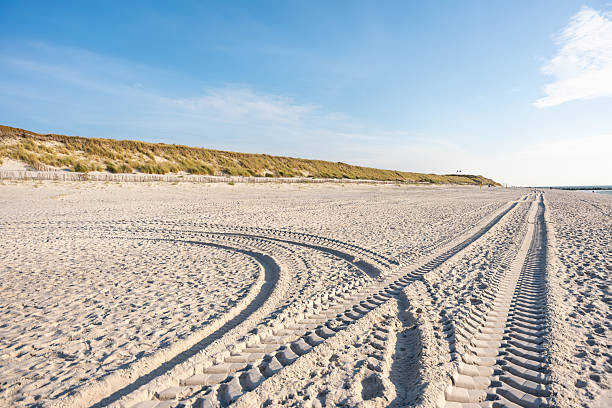vehicle_track: (133, 203, 515, 407), (445, 195, 549, 407)
